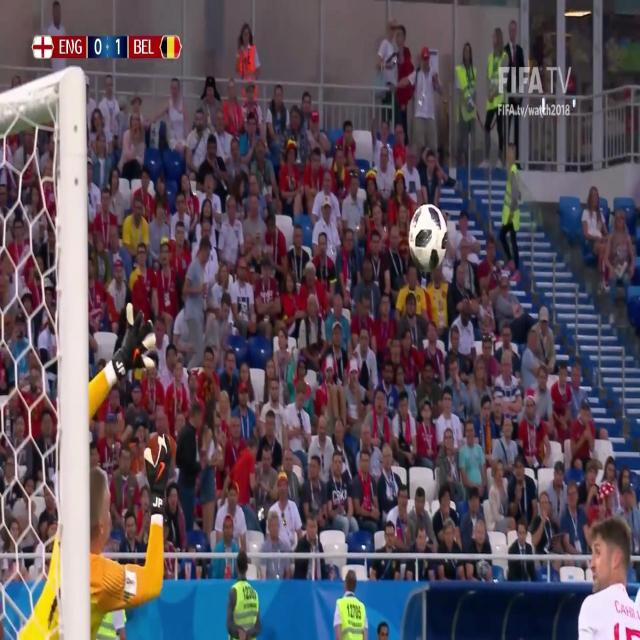ball: (403, 199, 452, 274)
player: (0, 292, 189, 640), (573, 521, 638, 640)
